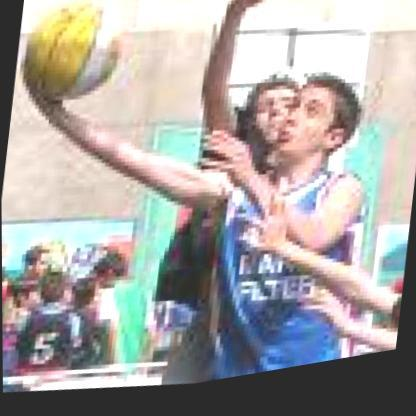basketball: (14, 0, 132, 115)
